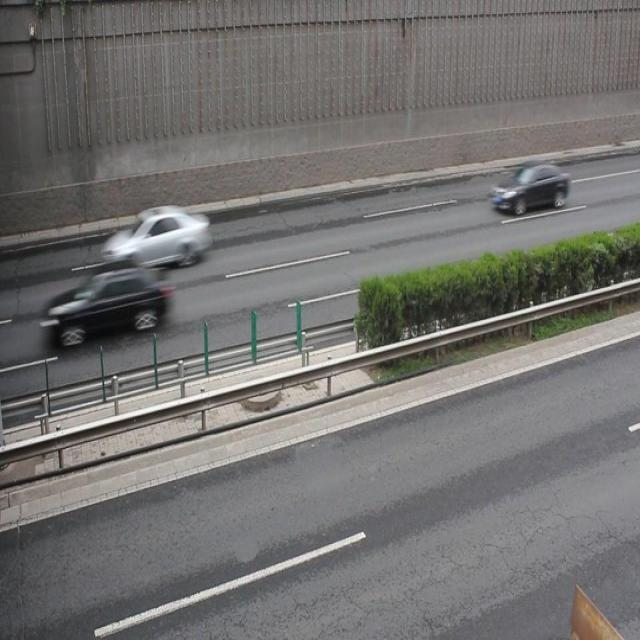car: (42, 258, 174, 344), (100, 201, 210, 270), (492, 160, 569, 216)
